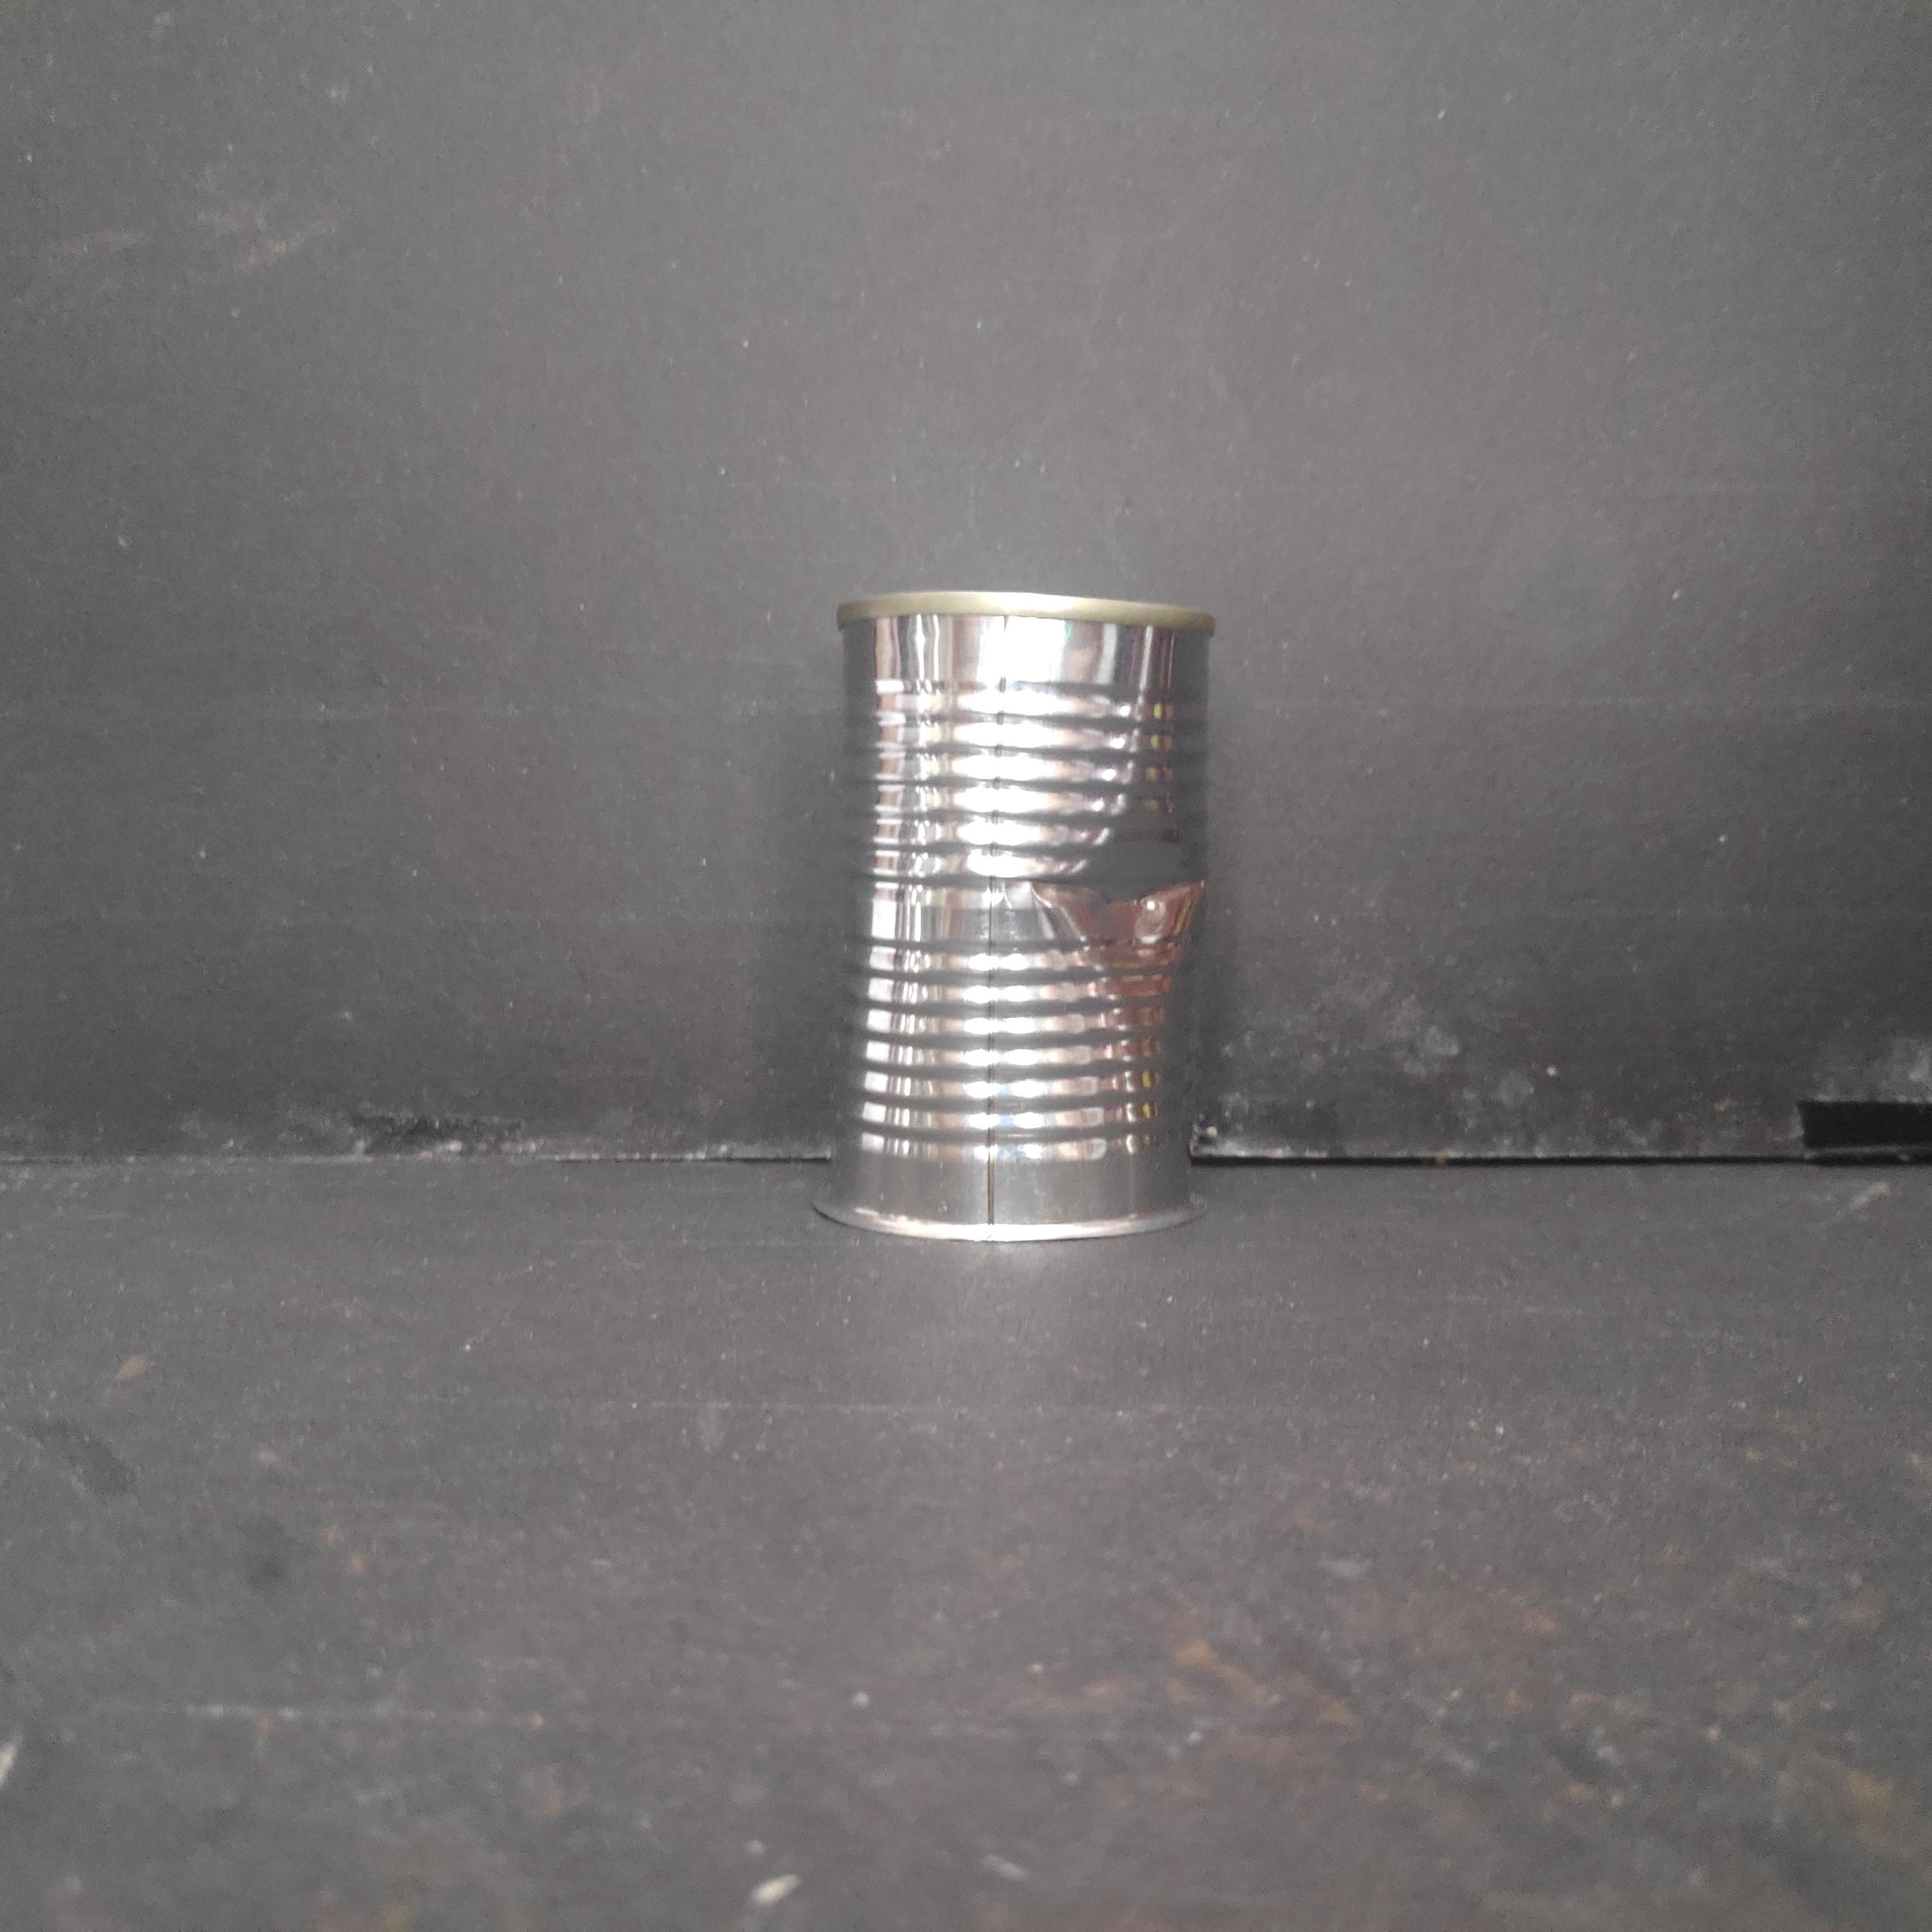Minor Defect: (819, 586, 1221, 1260)
